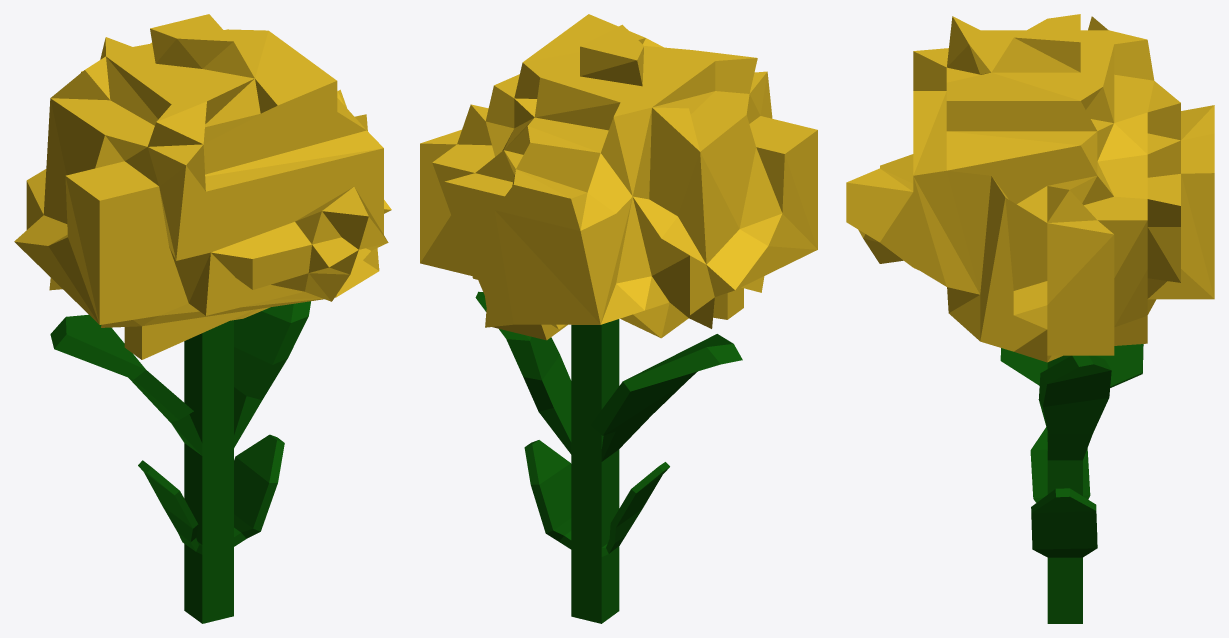
Rendered from Prąd2.fbx.
3 renders of one model, left to right at view 1: azimuth 30°, elevation 25°; view 2: azimuth 150°, elevation 25°; view 3: azimuth 270°, elevation 25°, orthographic. The views are drawn at different scales.
Visible parts, largest first — view 1: Icosphere.001, Cube.003; view 2: Icosphere.001, Cube.003; view 3: Icosphere.001, Cube.003.
Boxes of the visible parts, <box> form: Icosphere.001: <box>14,14,391,359</box>; Cube.003: <box>50,301,310,623</box>; Icosphere.001: <box>420,14,817,340</box>; Cube.003: <box>475,291,742,623</box>; Icosphere.001: <box>846,14,1214,362</box>; Cube.003: <box>1000,344,1143,623</box>.
Bounding box in the file's own units: 0.4767 × 0.8255 × 0.4767.
